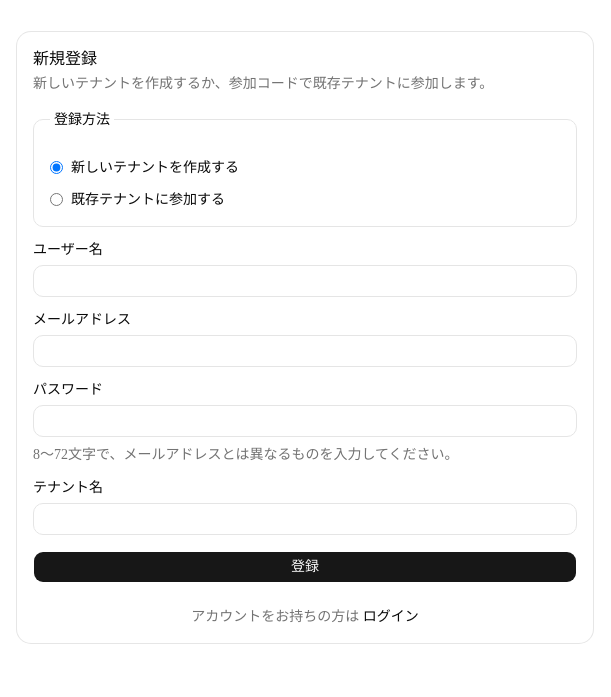
Test: SignUpForm › 参加コードに不正な文字が含まれる場合はバリデーションエラーを表示する
Click the radio button labelled "既存テナントに参加する" at point(56, 200), box [50, 193, 63, 206]
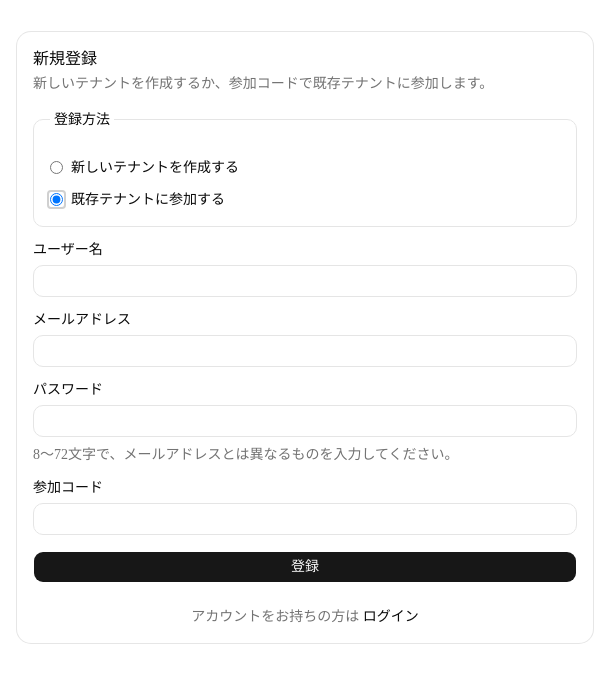
Type "佐藤花子" into the field labelled "ユーザー名" at point(305, 280), box [33, 264, 577, 296]
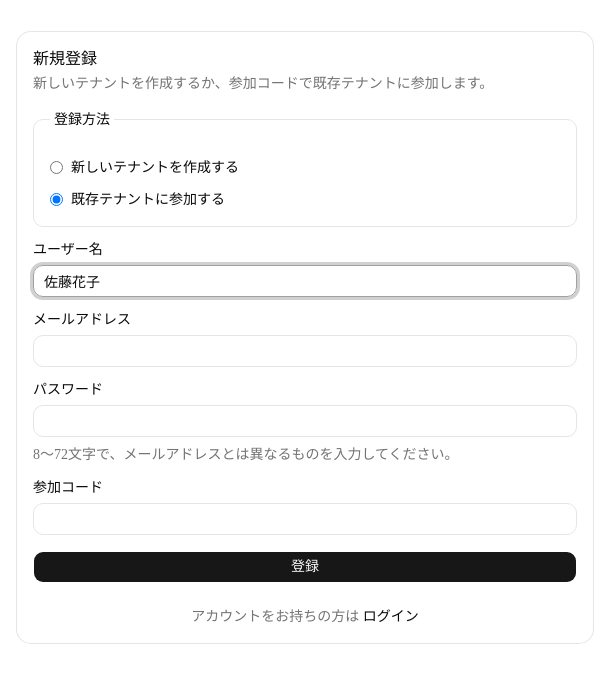
Type "sato@example.com" into the field labelled "メールアドレス" at point(305, 350), box [33, 334, 577, 366]
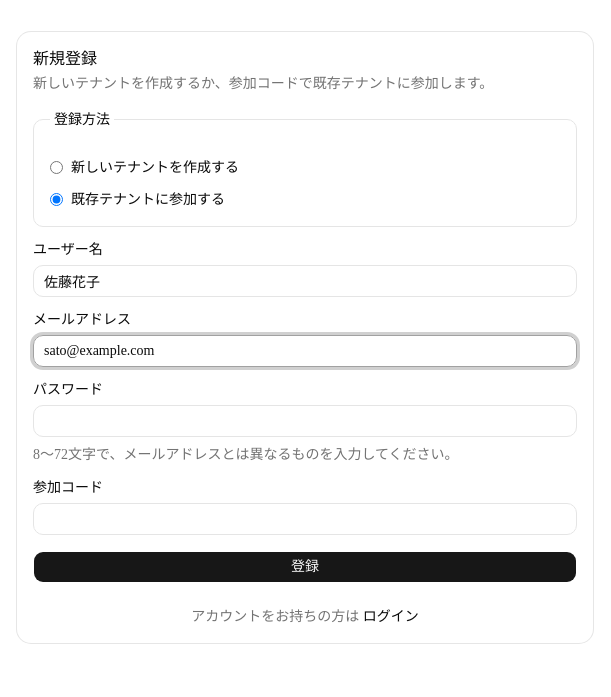
Type "password123" into the password field labelled "パスワード" at point(305, 420), box [33, 404, 577, 436]
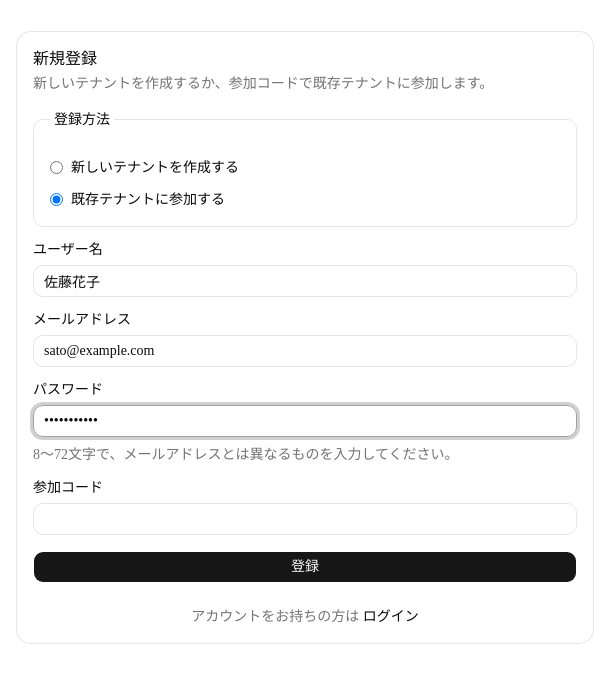
Type "0OI2345678" into the field labelled "参加コード" at point(305, 518), box [33, 502, 577, 534]
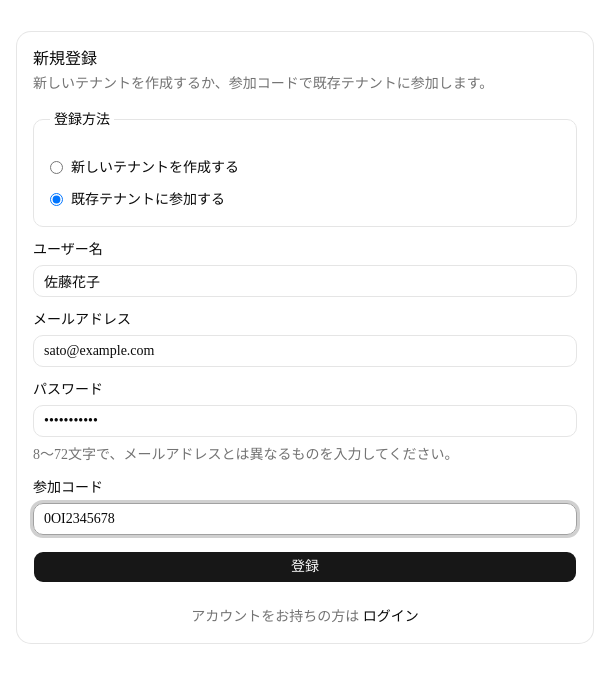
Click the button "登録" at point(305, 566), box [33, 550, 577, 582]
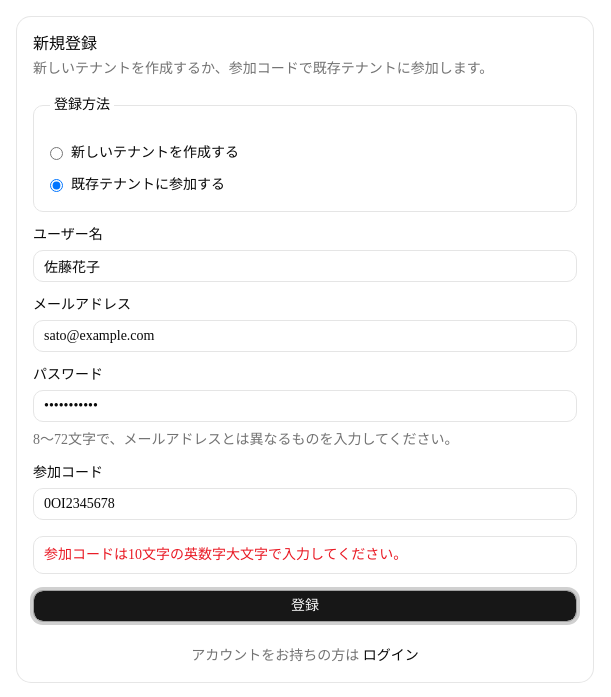
Check: the text "参加コードは10文字の英数字大文字で入力してください。" is shown, box [44, 547, 407, 562]
